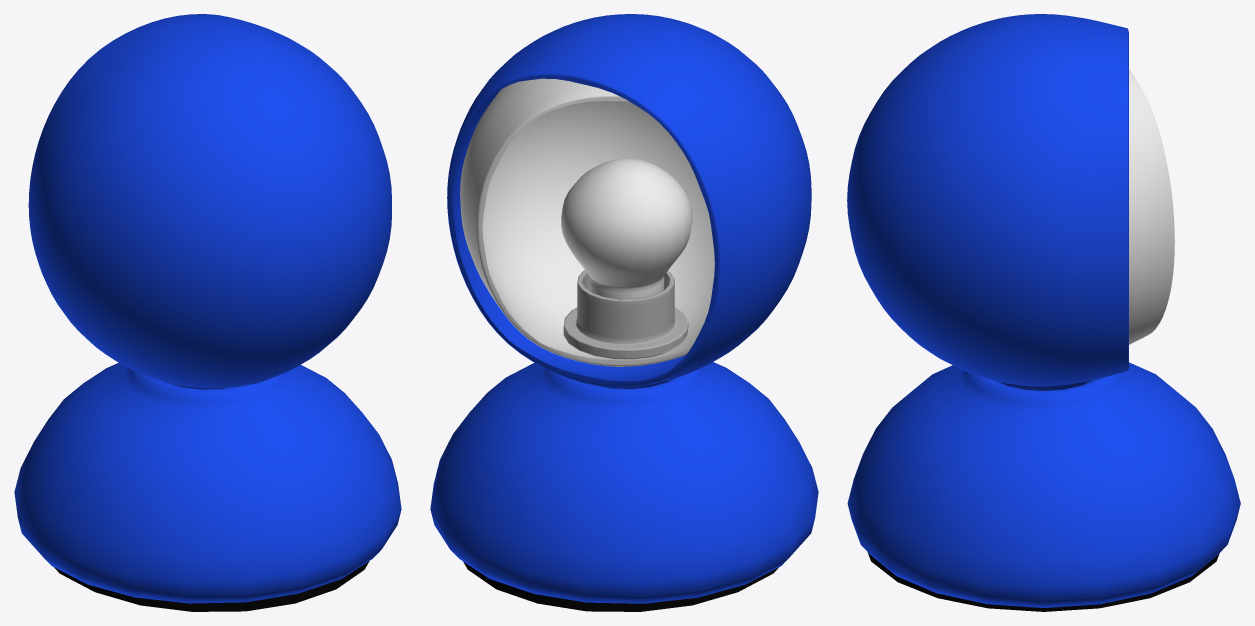
The model's file is Lampada Eclisse.fbx.
3 renders of one model, left to right at view 1: azimuth 30°, elevation 25°; view 2: azimuth 150°, elevation 25°; view 3: azimuth 270°, elevation 25°, orthographic.
Visible parts, largest first — view 1: lampada_inferiore1, base; view 2: lampada_inferiore1, sfera_esterna1, lampadina, porta_lampadina, base; view 3: lampada_inferiore1, sfera_esterna1, base.
Part boxes in pixels (x1,y1,x2,y2): lampada_inferiore1: [14, 14, 401, 603]; base: [54, 561, 369, 611]; lampada_inferiore1: [430, 14, 818, 603]; sfera_esterna1: [460, 78, 714, 366]; lampadina: [561, 158, 692, 299]; porta_lampadina: [563, 270, 688, 359]; base: [463, 561, 778, 611]; lampada_inferiore1: [847, 14, 1240, 607]; sfera_esterna1: [1129, 69, 1174, 344]; base: [867, 552, 1219, 611].
Size of the model in its own units: 11.87 by 16.95 by 11.86.
Materials: 5 (1 with a texture image).
